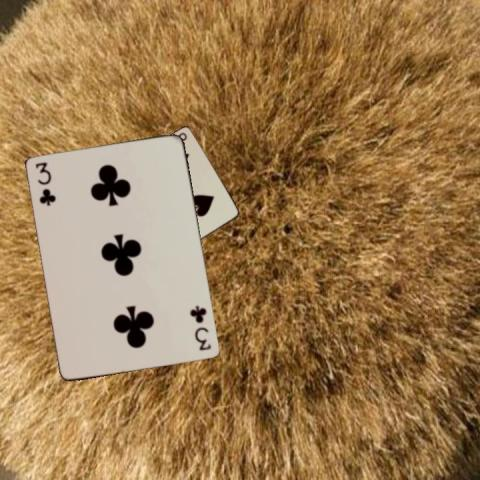3c: (187, 303, 213, 352), (33, 160, 56, 207)
